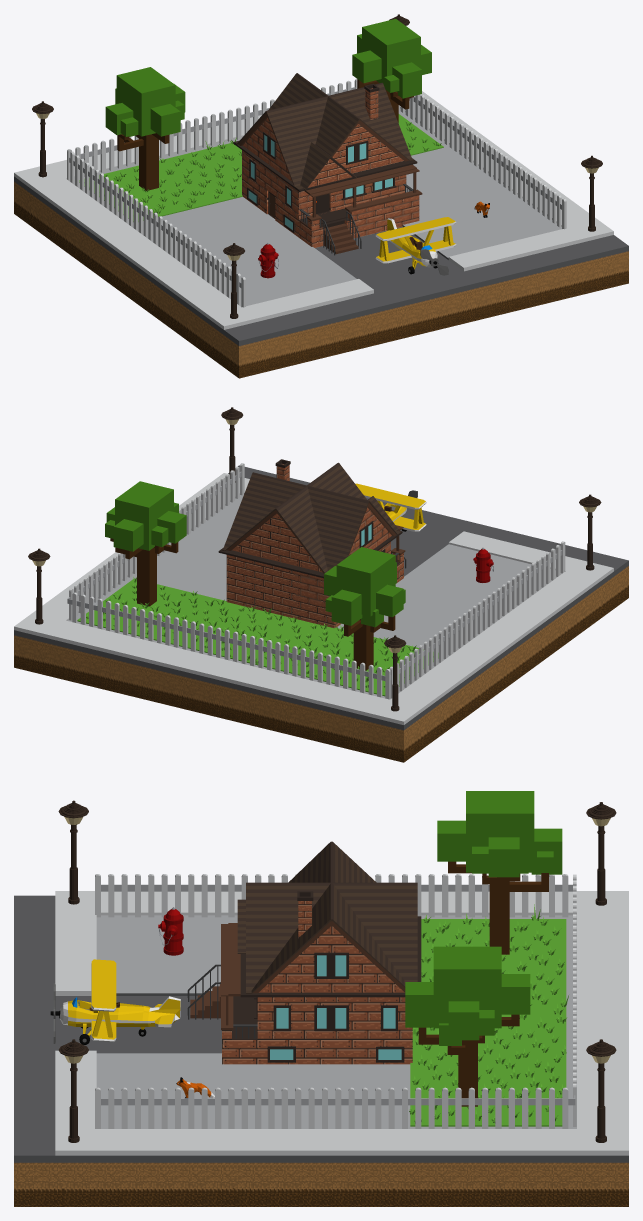
3 renders of one model, top to bottom at view 1: azimuth 30°, elevation 25°; view 2: azimuth 150°, elevation 25°; view 3: azimuth 270°, elevation 25°, orthographic. The views are drawn at different scales.
Parts seen in each view (by area): view 1: Cube.004, Cube.469, VEHICLES_AIRPLANE, OBJRANDOM_FIRE_HYDRANT; view 2: Cube.004, Cube.469, VEHICLES_AIRPLANE, OBJRANDOM_FIRE_HYDRANT; view 3: Cube.004, Cube.469, VEHICLES_AIRPLANE, OBJRANDOM_FIRE_HYDRANT.
Part boxes in pixels (box(x1,y1,x2,y2)): Cube.004: box(14, 14, 628, 378); Cube.469: box(233, 73, 422, 255); VEHICLES_AIRPLANE: box(375, 217, 456, 275); OBJRANDOM_FIRE_HYDRANT: box(258, 243, 278, 278); Cube.004: box(14, 407, 628, 762); Cube.469: box(218, 459, 406, 627); VEHICLES_AIRPLANE: box(355, 483, 426, 532); OBJRANDOM_FIRE_HYDRANT: box(473, 547, 493, 582); Cube.004: box(14, 791, 628, 1206); Cube.469: box(187, 841, 421, 1064); VEHICLES_AIRPLANE: box(50, 959, 180, 1044); OBJRANDOM_FIRE_HYDRANT: box(158, 907, 183, 955).
Size of the model in its own units: 4000 by 1600 by 4000.
35 materials, 4 textured.
